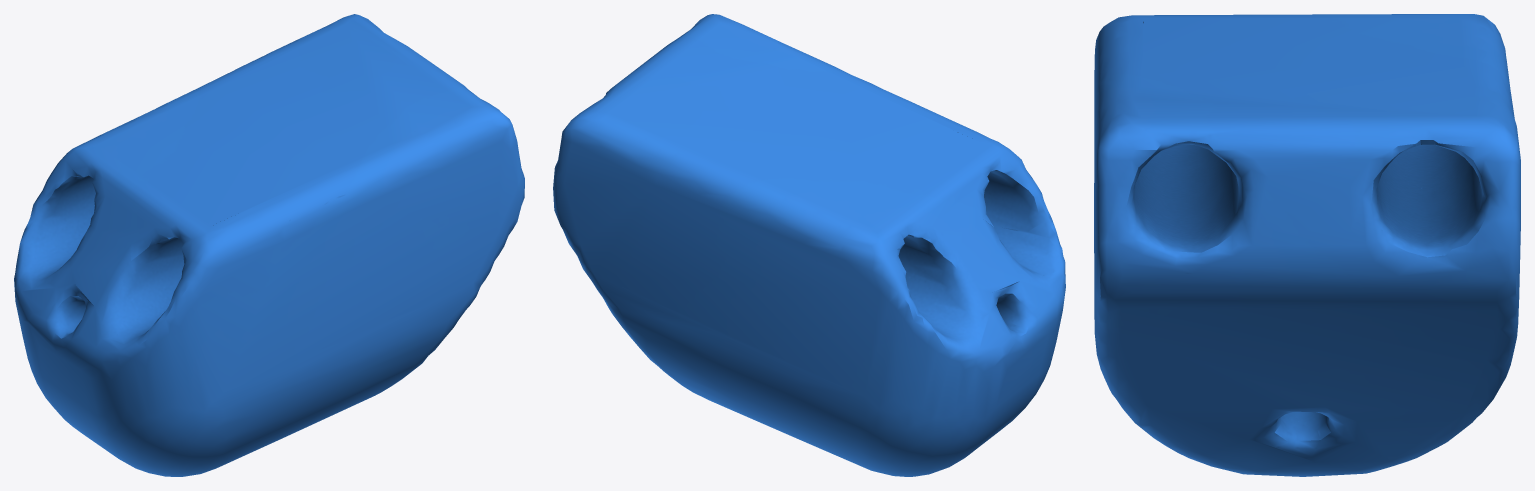
Rendered from left_thomb_upper.glb.
3 views of the same model, side by side, from view 1: azimuth 30°, elevation 25°; view 2: azimuth 150°, elevation 25°; view 3: azimuth 270°, elevation 25° (orthographic). The views are drawn at different scales.
Visible parts, largest first — view 1: left_thomb_upper; view 2: left_thomb_upper; view 3: left_thomb_upper.
Boxes of the visible parts, x1,y1,x2,y2 form: left_thomb_upper: (14, 14, 524, 476); left_thomb_upper: (553, 14, 1065, 476); left_thomb_upper: (1094, 14, 1520, 476).
Bounding box in the file's own units: 0.0203 × 0.016 × 0.0132.
Materials: 1 (1 with a texture image).
